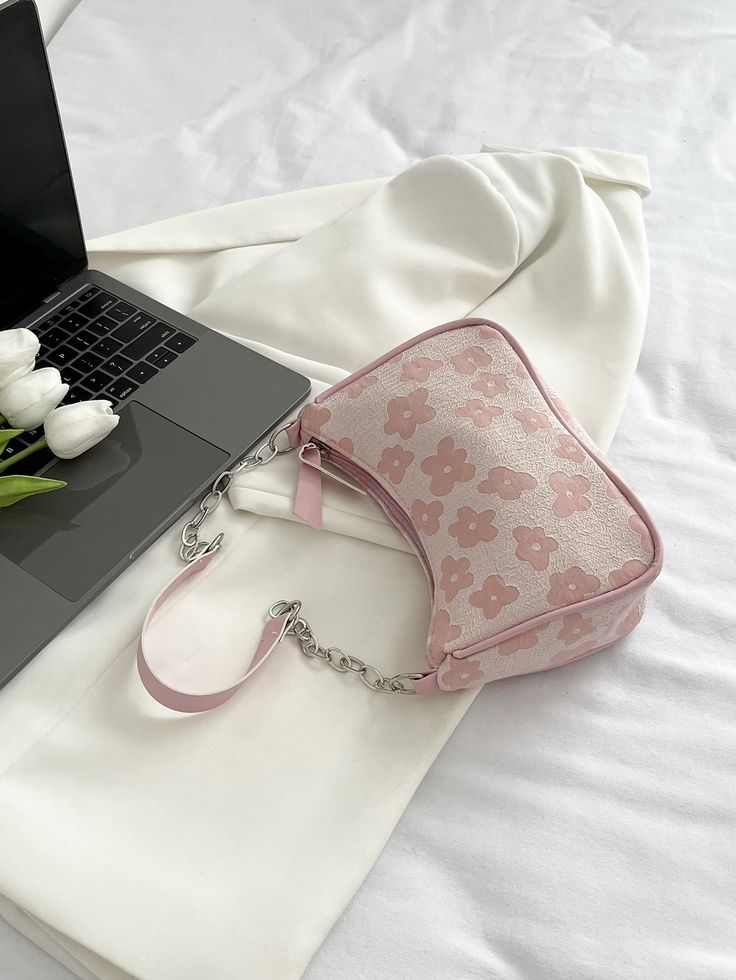nylon: (299, 317, 665, 693)
